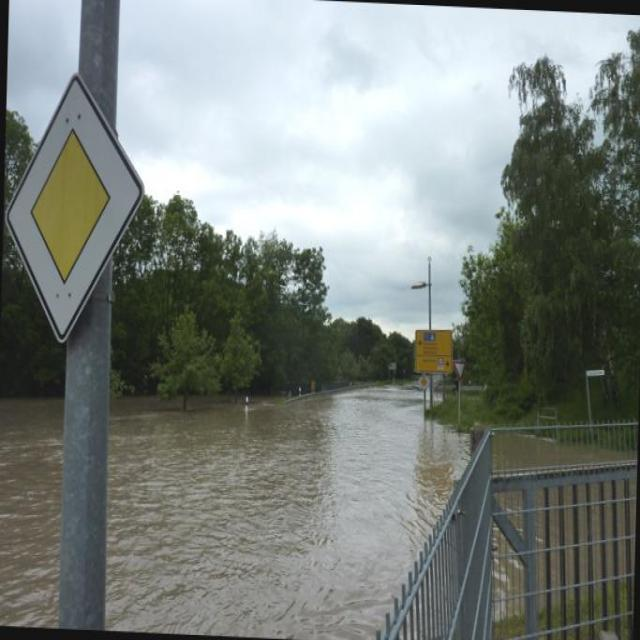flood: (0, 357, 469, 638)
